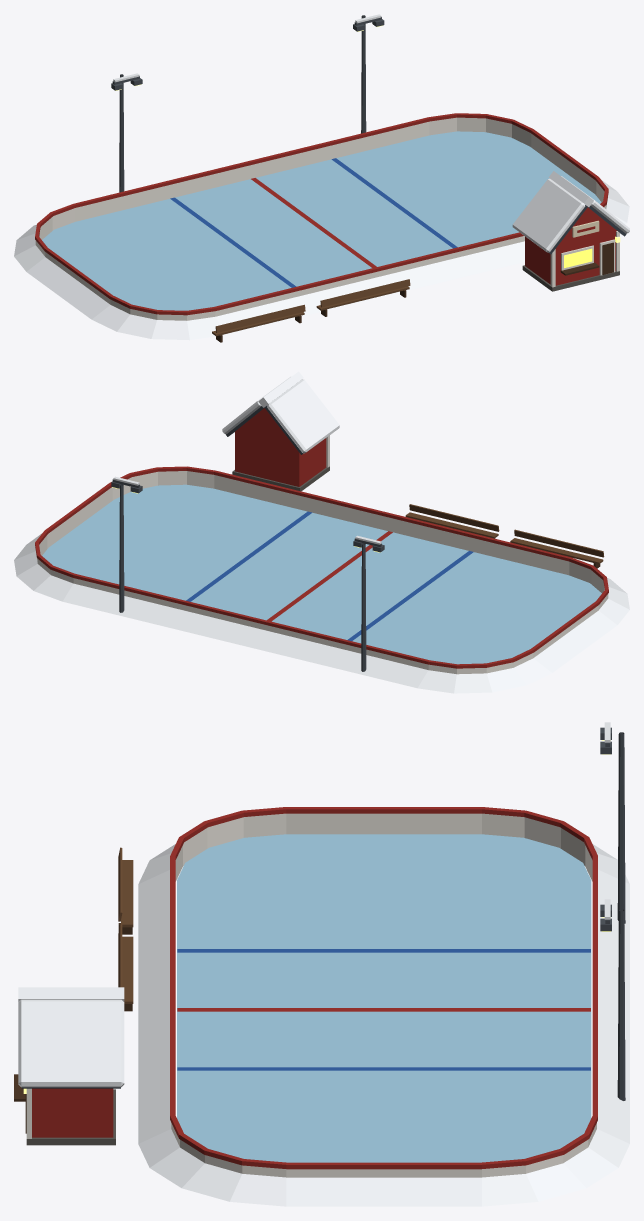
The model's file is ice-rink.glb.
3 views of the same model, one above another, from view 1: azimuth 30°, elevation 25°; view 2: azimuth 150°, elevation 25°; view 3: azimuth 270°, elevation 25° (orthographic). The views are drawn at different scales.
Visible parts, largest first — view 1: ice-rink; view 2: ice-rink; view 3: ice-rink.
Boxes of the visible parts, x1,y1,x2,y2 form: ice-rink: (14, 14, 629, 342); ice-rink: (14, 371, 629, 693); ice-rink: (14, 722, 629, 1206).
Bounding box in the file's own units: 32.6 × 7.68 × 22.05.
